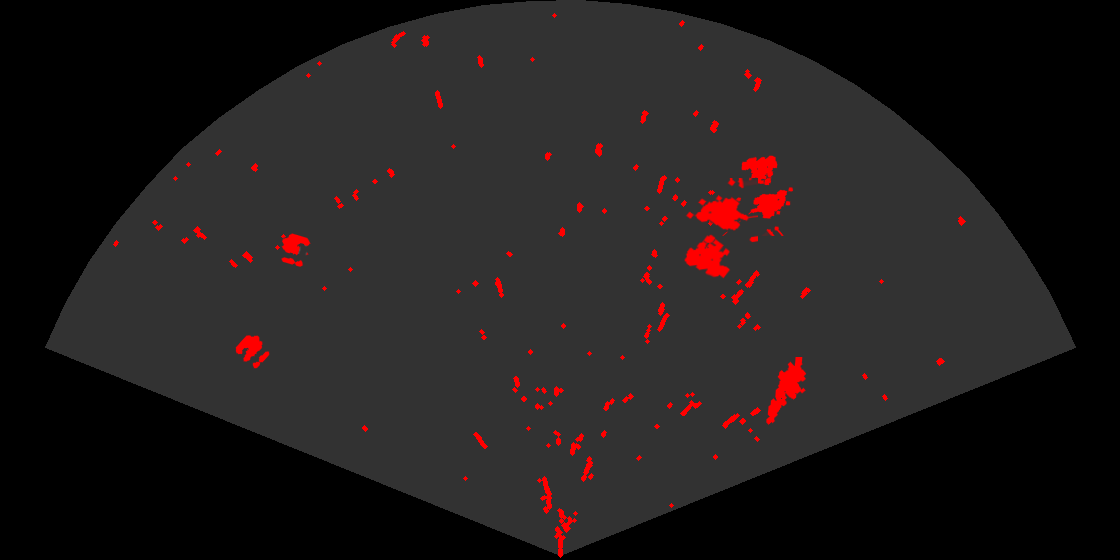ball: (234, 334, 271, 370), (280, 232, 312, 268)
cage: (683, 178, 758, 280), (717, 154, 795, 236)
frogman: (765, 357, 808, 426)
